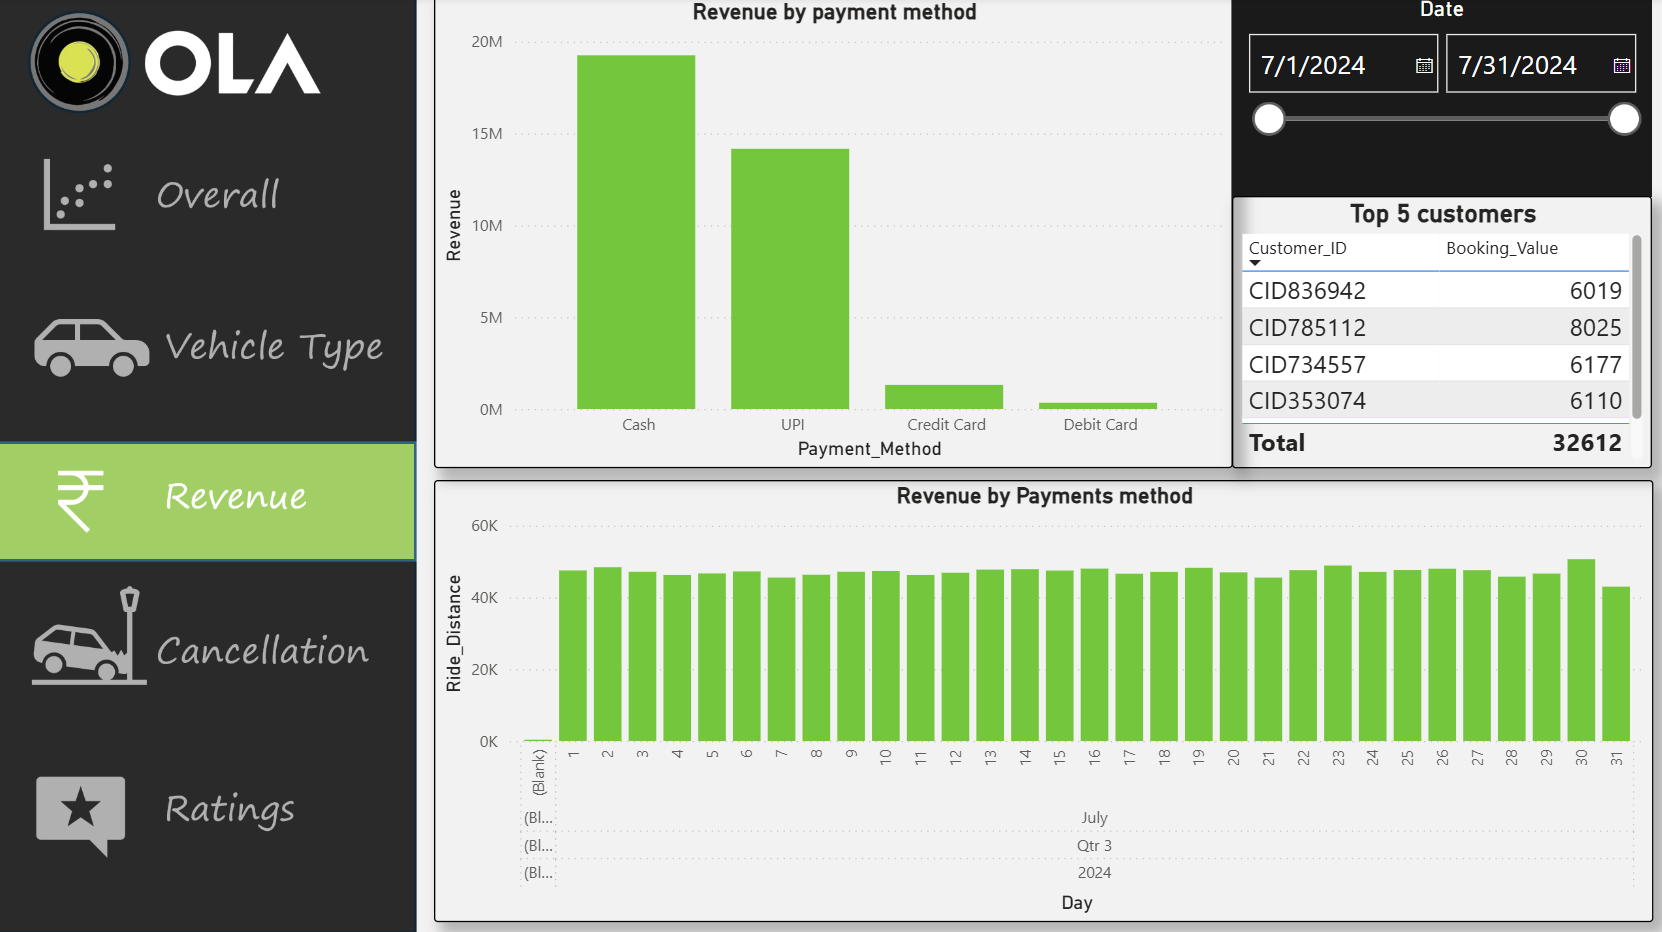

The dashboard page shown, as its layout file describes it:
{"tool":"powerbi","page":{"name":"Revenue","canvas":[1280,720],"ordinal":2},"visuals":[{"type":"actionButton","box":[0,227.5,321.9,89.9],"z":0},{"type":"actionButton","box":[0,449.3,321.9,89.9],"z":1000},{"type":"actionButton","box":[0,577.8,321.9,89.9],"z":2000},{"type":"actionButton","box":[0,108.1,321.9,89.9],"z":3000},{"type":"columnChart","title":"Revenue by payment method","fields":{"Y":["Sum(Bookings1.Booking_Value)"],"Category":["Bookings1.Payment_Method"]},"box":[336.7,0,611.7,361.7],"z":4000},{"type":"columnChart","title":"Revenue by Payments method","fields":{"Y":["Sum(Bookings1.Ride_Distance)"],"Category":["Bookings1.Date.Variation.Date Hierarchy.Year","Bookings1.Date.Variation.Date Hierarchy.Quarter","Bookings1.Date.Variation.Date Hierarchy.Month","Bookings1.Date.Variation.Date Hierarchy.Day"]},"box":[336.7,370,933.3,338.3],"z":5000},{"type":"slicer","title":"Date","fields":{"Values":["Bookings1.Date"]},"box":[948.3,0,321.7,153.3],"z":6000},{"type":"tableEx","title":"Top 5 customers","fields":{"Values":["Bookings1.Customer_ID","Sum(Bookings1.Booking_Value)"]},"box":[948.3,153.3,321.7,208.3],"z":7000}]}

Visuals, with their boxes on the page's 1280x720 design canvas (x1, y1, x2, y2). These are canvas units, not pixel positions in the 1662x932 screenshot, which may show the page scaled, cropped or inside an application window:
actionButton: 0,228,322,317
actionButton: 0,449,322,539
actionButton: 0,578,322,668
actionButton: 0,108,322,198
"Revenue by payment method" columnChart: 337,0,948,362
"Revenue by Payments method" columnChart: 337,370,1270,708
"Date" slicer: 948,0,1270,153
"Top 5 customers" tableEx: 948,153,1270,362
